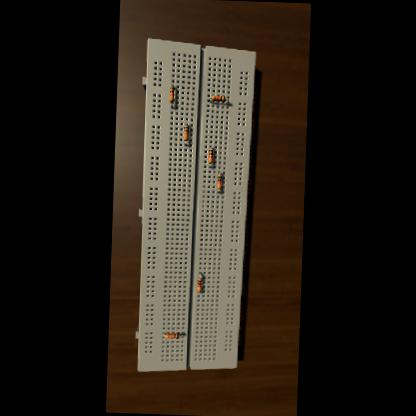breadboard: (132, 38, 256, 375)
resistor: (212, 96, 226, 102), (168, 86, 173, 102), (166, 333, 179, 339), (183, 126, 188, 140), (198, 277, 202, 292), (217, 176, 221, 190), (209, 149, 213, 163)
wire: (208, 98, 212, 102), (180, 332, 183, 336), (226, 100, 228, 104), (184, 142, 186, 146), (218, 172, 220, 175), (164, 333, 166, 336), (171, 102, 172, 108), (210, 146, 212, 148), (209, 164, 210, 168), (186, 123, 188, 125), (217, 190, 218, 193), (172, 84, 172, 86)
